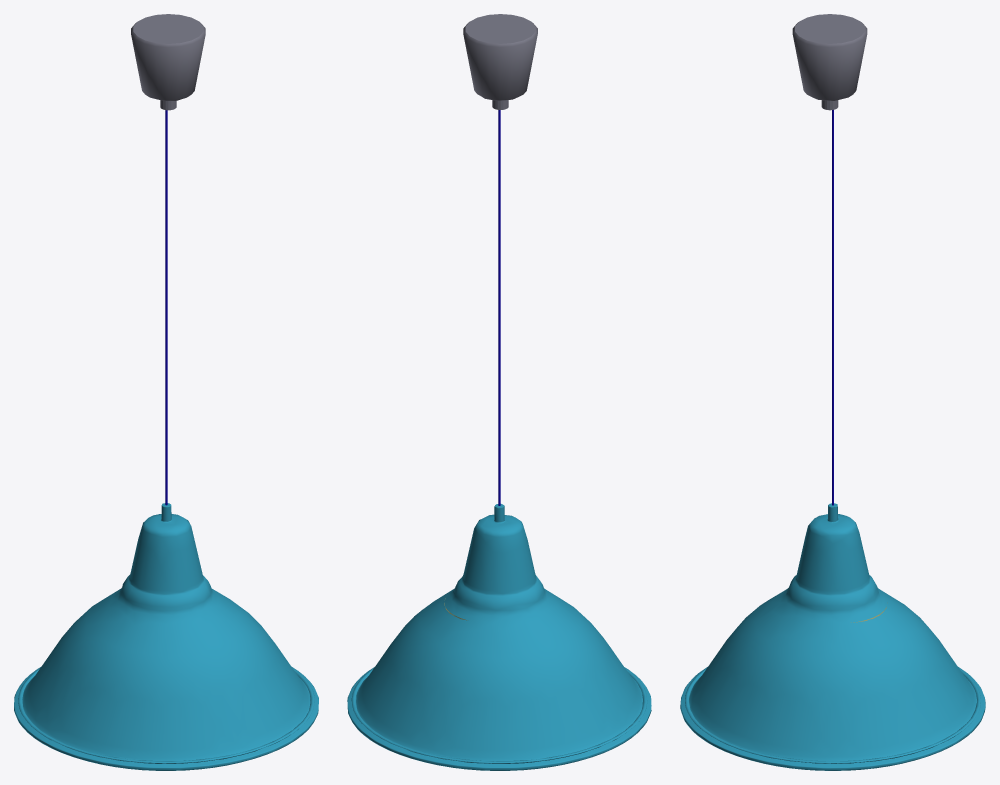
Rendered from hanginglamp.fbx.
The picture shows the model from 3 angles, left to right: view 1: azimuth 30°, elevation 25°; view 2: azimuth 150°, elevation 25°; view 3: azimuth 270°, elevation 25°; orthographic projection.
Visible parts, largest first — view 1: lamp; view 2: lamp; view 3: lamp.
Part boxes in pixels (x1=…): lamp: x1=14, y1=14, x2=318, y2=770; lamp: x1=347, y1=14, x2=651, y2=770; lamp: x1=680, y1=14, x2=985, y2=770.
Bounding box in the file's own units: 100 × 246 × 100.
